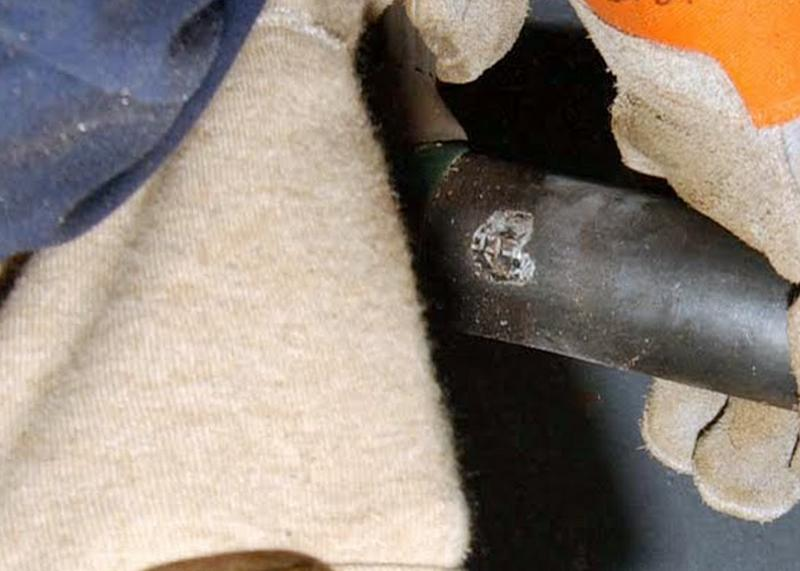rust: (451, 163, 532, 338)
